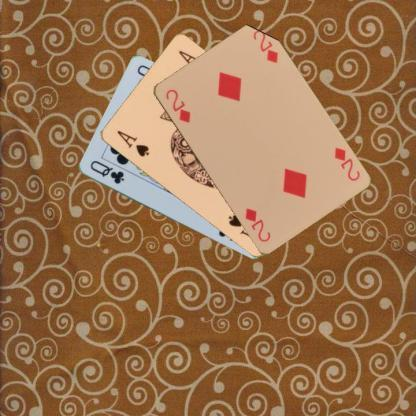2d: (162, 86, 192, 124), (331, 144, 361, 182)
As: (113, 128, 150, 158)
Qc: (86, 158, 126, 186)
